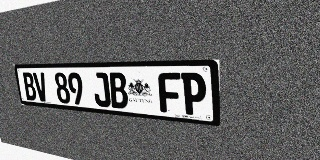8: (53, 72, 71, 104)
9: (67, 72, 85, 105)
B: (108, 72, 129, 109), (22, 72, 37, 101)
F: (158, 73, 182, 114)
J: (91, 72, 111, 107)
P: (181, 73, 206, 116)
V: (32, 72, 49, 102)
